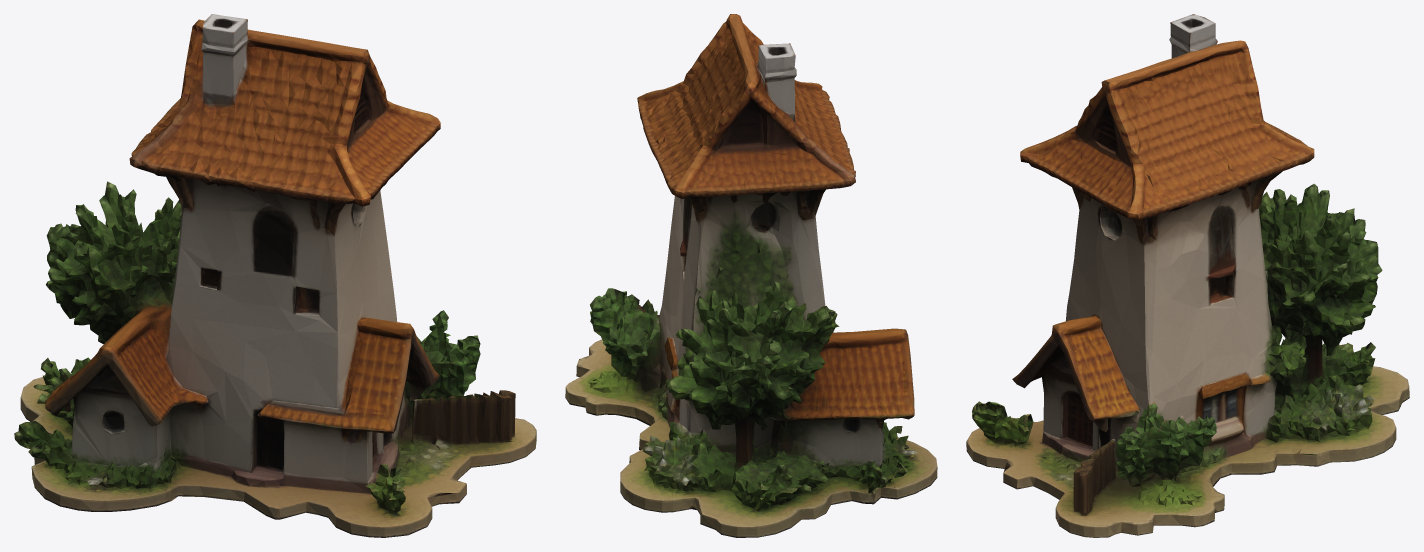
File: texturized (5).glb
3 renders of one model, left to right at view 1: azimuth 30°, elevation 25°; view 2: azimuth 150°, elevation 25°; view 3: azimuth 270°, elevation 25°, orthographic. The views are drawn at different scales.
Parts seen in each view (by area): view 1: world; view 2: world; view 3: world.
Boxes of the visible parts, x1,y1,x2,y2 form: world: (14,14,536,537); world: (565,14,937,537); world: (966,14,1409,537).
Size of the model in its own units: 0.6341 by 0.6147 by 0.6161.
Materials: 1 (1 with a texture image).
